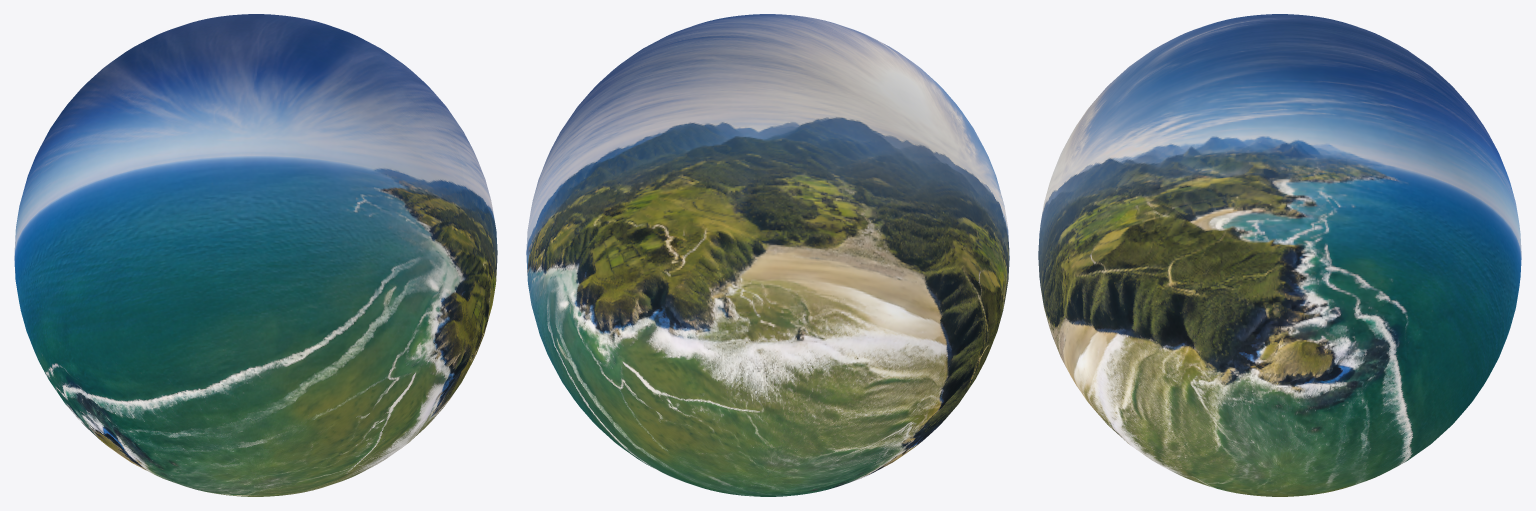
File: playa_torimbia_version_libre1.glb
3 views of the same model, side by side, from view 1: azimuth 30°, elevation 25°; view 2: azimuth 150°, elevation 25°; view 3: azimuth 270°, elevation 25° (orthographic).
Parts seen in each view (by area): view 1: Sphere__0_0; view 2: Sphere__0_0; view 3: Sphere__0_0.
Boxes of the visible parts, x1,y1,x2,y2 form: Sphere__0_0: (14, 14, 497, 496); Sphere__0_0: (526, 14, 1009, 496); Sphere__0_0: (1038, 14, 1521, 496).
Bounding box in the file's own units: 4.64 × 4.64 × 4.64.
Materials: 1 (1 with a texture image).
